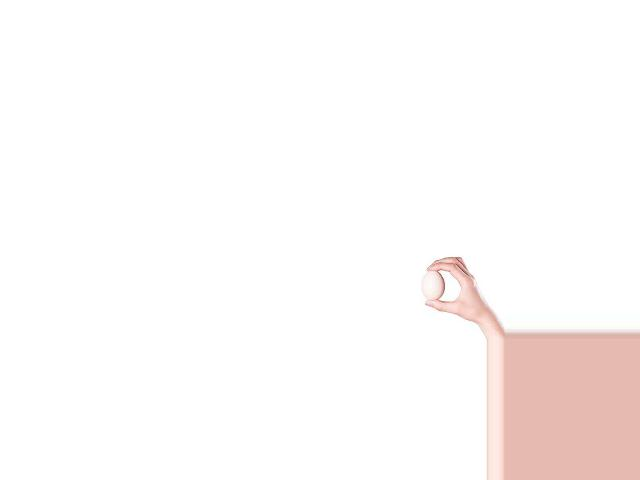egg: (421, 270, 445, 301)
